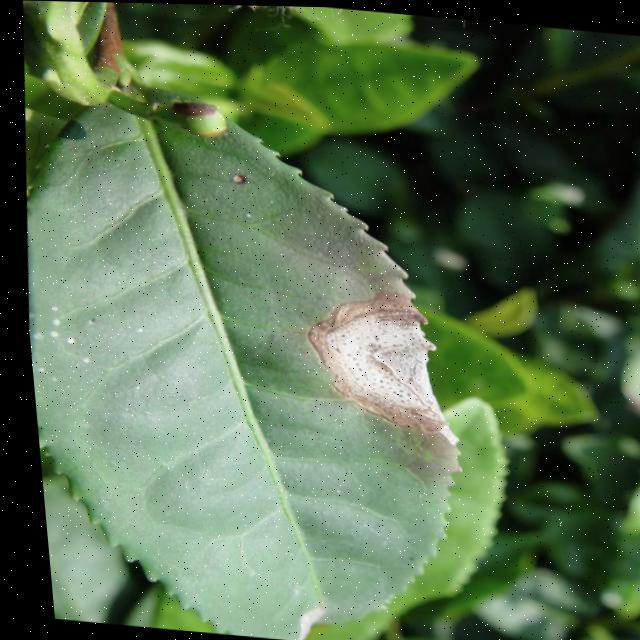Tea cloud leaf blight: (291, 285, 455, 450)
